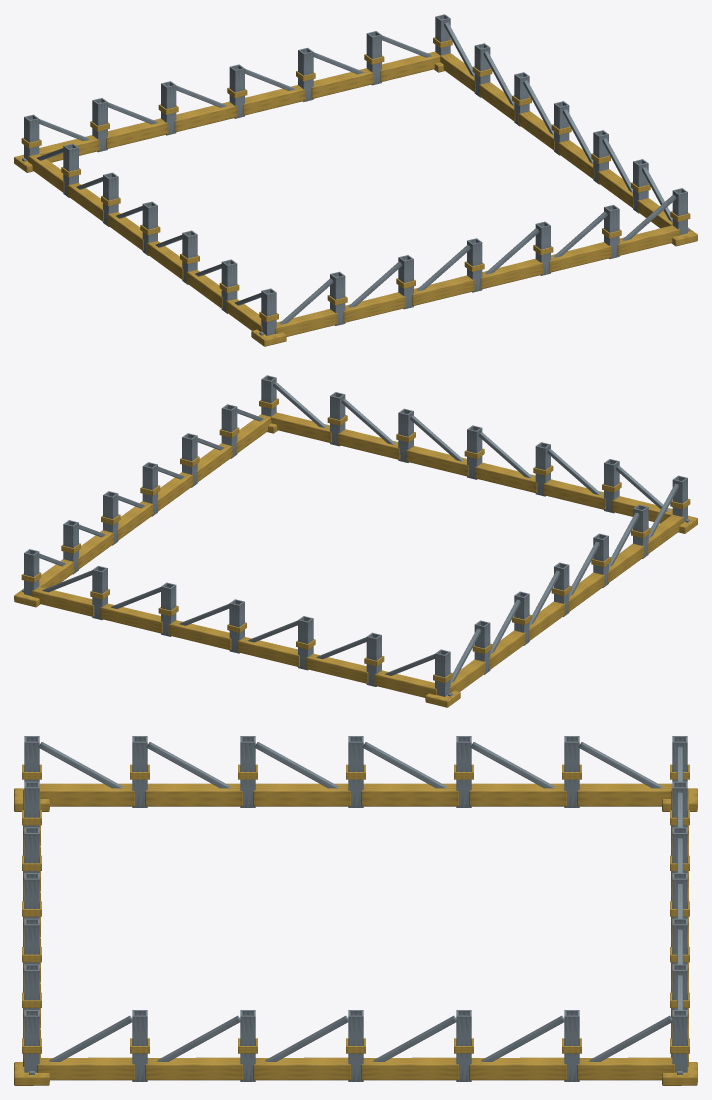
3 views of the same model, one above another, from view 1: azimuth 30°, elevation 25°; view 2: azimuth 150°, elevation 25°; view 3: azimuth 270°, elevation 25° (orthographic). The views are drawn at different scales.
Visible parts, largest first — view 1: Tier 0 bay 2-0-3 service deck, Tier 0 bay 2-0-1 service deck, Tier 0 bay 2-0-2 service deck, Tier 0 bay 2-0-4 service deck, Tier 0 bay 0-0-1 service deck, Tier 0 bay 0-0-3 service deck, Tier 0 bay 0-0-4 service deck, Tier 0 bay 0-0-2 service deck, Tier 0 bay 0-0-5 service deck, Tier 0 bay 2-0-0 service deck, Tier 0 bay 0-0-0 service deck, Tier 0 bay 3-0-3 service deck (+35 smaller); view 2: Tier 0 bay 2-0-2 service deck, Tier 0 bay 0-0-4 service deck, Tier 0 bay 0-0-2 service deck, Tier 0 bay 2-0-1 service deck, Tier 0 bay 2-0-4 service deck, Tier 0 bay 0-0-3 service deck, Tier 0 bay 0-0-1 service deck, Tier 0 bay 2-0-3 service deck, Tier 0 bay 2-0-0 service deck, Tier 0 bay 0-0-5 service deck, Tier 0 bay 2-0-5 service deck, Tier 0 bay 1-0-1 service deck (+35 smaller); view 3: Tier 0 bay 3-0-1 service deck, Tier 0 bay 3-0-2 service deck, Tier 0 bay 3-0-3 service deck, Tier 0 bay 3-0-4 service deck, Tier 0 bay 1-0-1 service deck, Tier 0 bay 1-0-2 service deck, Tier 0 bay 1-0-3 service deck, Tier 0 bay 1-0-4 service deck, Tier 0 bay 3-0-5 service deck, Tier 0 bay 1-0-5 service deck, Tier 0 bay 1-0-0 service deck, Tier 0 bay 3-0-0 service deck (+32 smaller).
Boxes of the visible parts, left/top/right/bottom form: Tier 0 bay 2-0-3 service deck: left=174, top=101, right=236, bottom=132; Tier 0 bay 2-0-1 service deck: left=311, top=68, right=374, bottom=98; Tier 0 bay 2-0-2 service deck: left=243, top=85, right=305, bottom=115; Tier 0 bay 2-0-4 service deck: left=106, top=118, right=168, bottom=148; Tier 0 bay 0-0-1 service deck: left=343, top=292, right=405, bottom=322; Tier 0 bay 0-0-3 service deck: left=480, top=258, right=542, bottom=289; Tier 0 bay 0-0-4 service deck: left=549, top=242, right=611, bottom=272; Tier 0 bay 0-0-2 service deck: left=412, top=275, right=474, bottom=305; Tier 0 bay 0-0-5 service deck: left=617, top=225, right=680, bottom=255; Tier 0 bay 2-0-0 service deck: left=380, top=51, right=440, bottom=81; Tier 0 bay 0-0-0 service deck: left=275, top=309, right=337, bottom=336; Tier 0 bay 3-0-3 service deck: left=146, top=241, right=183, bottom=279; Tier 0 bay 2-0-2 service deck: left=168, top=620, right=231, bottom=650; Tier 0 bay 0-0-4 service deck: left=337, top=429, right=400, bottom=459; Tier 0 bay 0-0-2 service deck: left=475, top=462, right=537, bottom=493; Tier 0 bay 2-0-1 service deck: left=100, top=603, right=162, bottom=633; Tier 0 bay 2-0-4 service deck: left=306, top=653, right=368, bottom=683; Tier 0 bay 0-0-3 service deck: left=406, top=446, right=468, bottom=476; Tier 0 bay 0-0-1 service deck: left=543, top=479, right=605, bottom=509; Tier 0 bay 2-0-3 service deck: left=237, top=637, right=299, bottom=666; Tier 0 bay 2-0-0 service deck: left=31, top=587, right=94, bottom=616; Tier 0 bay 0-0-5 service deck: left=270, top=412, right=331, bottom=442; Tier 0 bay 2-0-5 service deck: left=374, top=670, right=436, bottom=697; Tier 0 bay 1-0-1 service deck: left=196, top=443, right=232, bottom=482; Tier 0 bay 3-0-1 service deck: left=469, top=783, right=566, bottom=806; Tier 0 bay 3-0-2 service deck: left=361, top=783, right=458, bottom=806; Tier 0 bay 3-0-3 service deck: left=253, top=783, right=350, bottom=806; Tier 0 bay 3-0-4 service deck: left=145, top=783, right=242, bottom=806; Tier 0 bay 1-0-1 service deck: left=145, top=1057, right=242, bottom=1080; Tier 0 bay 1-0-2 service deck: left=253, top=1057, right=350, bottom=1080; Tier 0 bay 1-0-3 service deck: left=361, top=1057, right=458, bottom=1080; Tier 0 bay 1-0-4 service deck: left=469, top=1057, right=566, bottom=1080; Tier 0 bay 3-0-5 service deck: left=39, top=783, right=134, bottom=806; Tier 0 bay 1-0-5 service deck: left=577, top=1057, right=674, bottom=1080; Tier 0 bay 1-0-0 service deck: left=37, top=1057, right=134, bottom=1080; Tier 0 bay 3-0-0 service deck: left=577, top=783, right=672, bottom=806.
Bounding box in the file's own units: 2.85 × 0.3017 × 2.85.
Materials: 2 (2 with a texture image).
